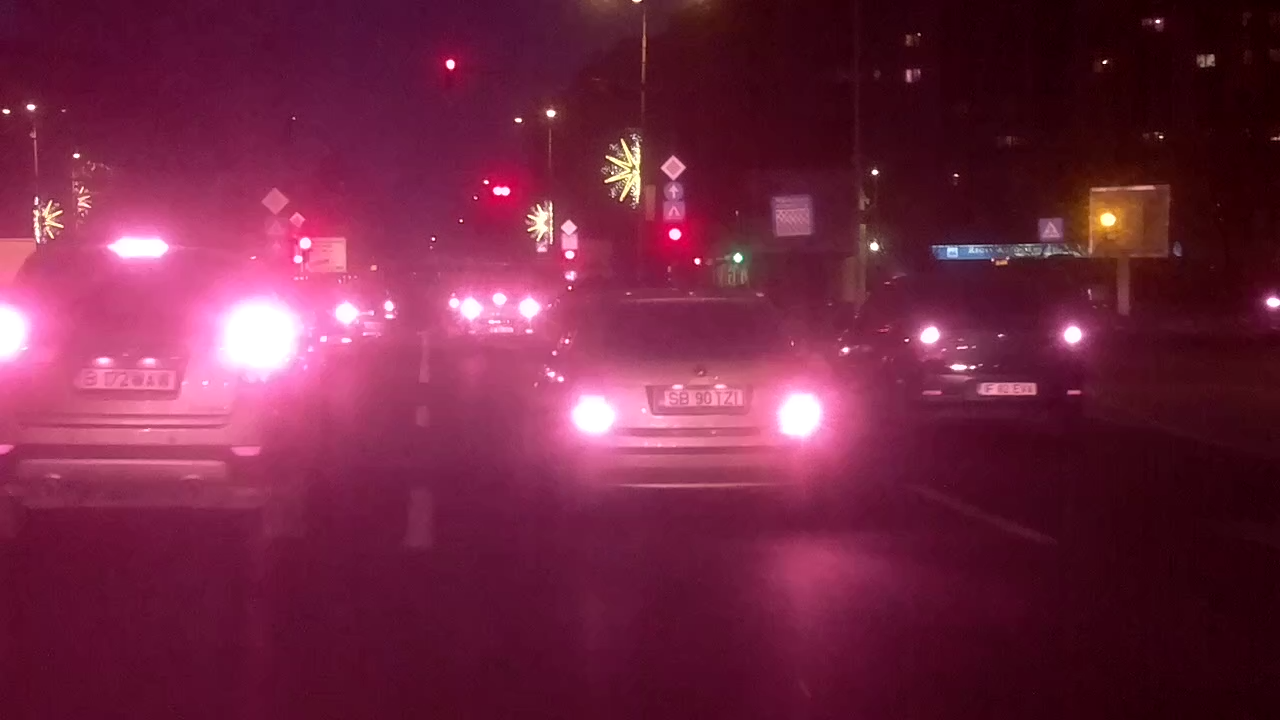license-plate: (70, 364, 178, 393), (653, 385, 746, 411)
